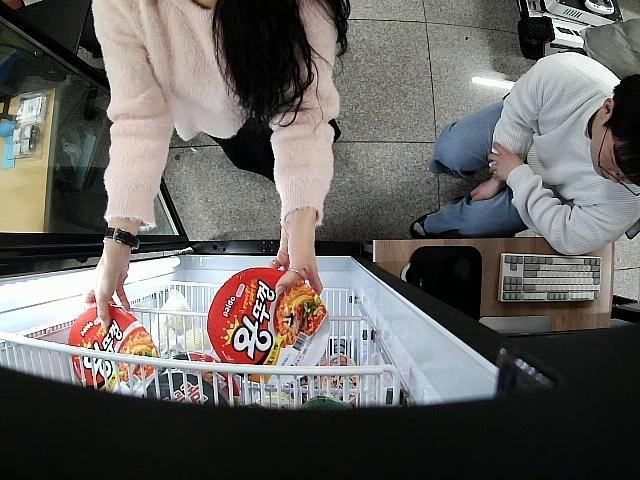10_wangTtukkeong: (208, 267, 330, 384), (68, 308, 160, 398)
